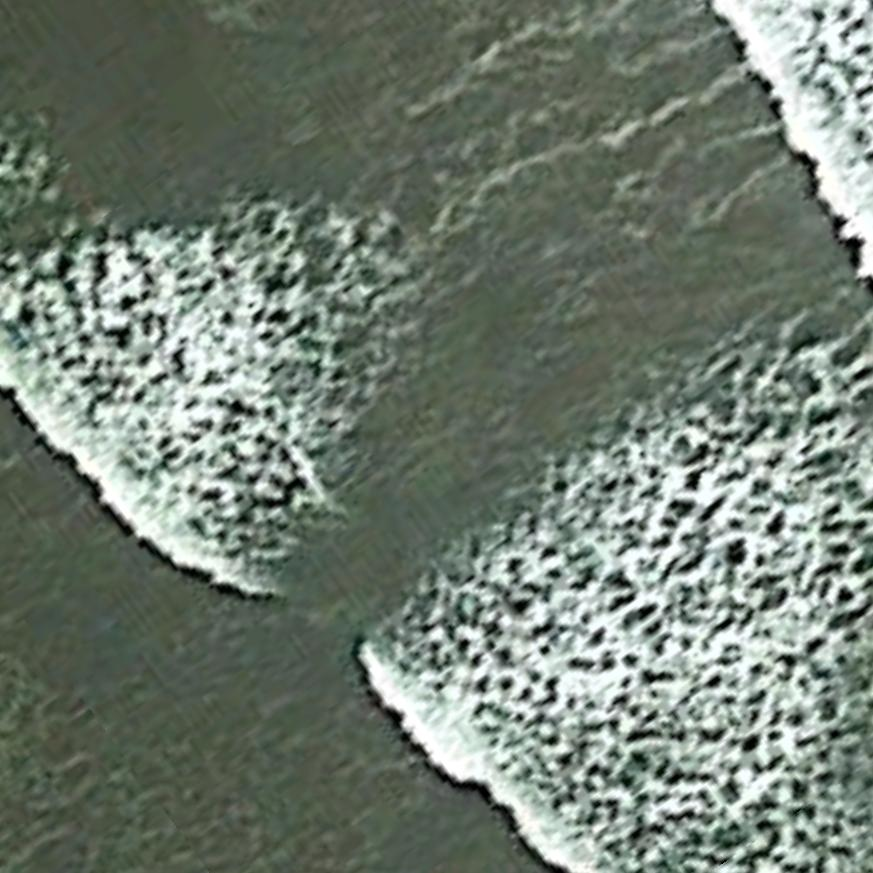rip_current: (178, 272, 799, 680)
